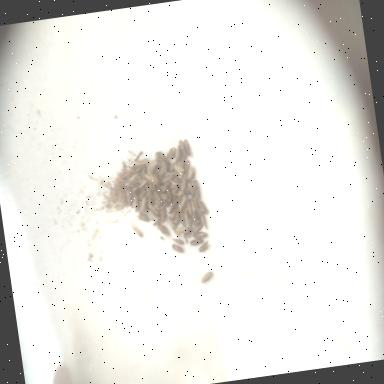pbw: (176, 138, 188, 158), (176, 192, 189, 210), (170, 160, 184, 176), (157, 150, 171, 166), (196, 198, 208, 216), (138, 196, 150, 214), (152, 188, 164, 206), (199, 270, 214, 284), (165, 213, 177, 230), (130, 192, 140, 212), (172, 224, 190, 235), (168, 204, 180, 220), (126, 172, 142, 184), (156, 222, 168, 238), (172, 144, 182, 163), (182, 208, 192, 227), (170, 241, 184, 254), (147, 203, 160, 217), (196, 239, 210, 252), (190, 219, 204, 232), (158, 160, 168, 178), (192, 230, 208, 241), (192, 178, 200, 200), (185, 166, 196, 182), (199, 211, 208, 230), (160, 171, 174, 183), (136, 211, 150, 223), (145, 160, 159, 172), (166, 199, 178, 213), (192, 198, 200, 219), (154, 183, 168, 194), (129, 185, 140, 199), (171, 188, 186, 198), (132, 157, 148, 166), (165, 147, 177, 159), (124, 188, 132, 206), (182, 160, 191, 176), (178, 150, 186, 168), (183, 138, 191, 156), (170, 168, 182, 180), (132, 224, 142, 238), (179, 176, 188, 191), (188, 238, 204, 246), (164, 186, 172, 202), (172, 236, 184, 246), (144, 157, 156, 167), (154, 158, 162, 172), (122, 182, 136, 190), (179, 210, 186, 226), (188, 182, 196, 196), (145, 184, 153, 198), (136, 190, 147, 200), (133, 164, 146, 172), (186, 198, 192, 215), (190, 196, 196, 213), (158, 206, 164, 222), (136, 180, 148, 188), (168, 182, 180, 189), (159, 192, 169, 200)
